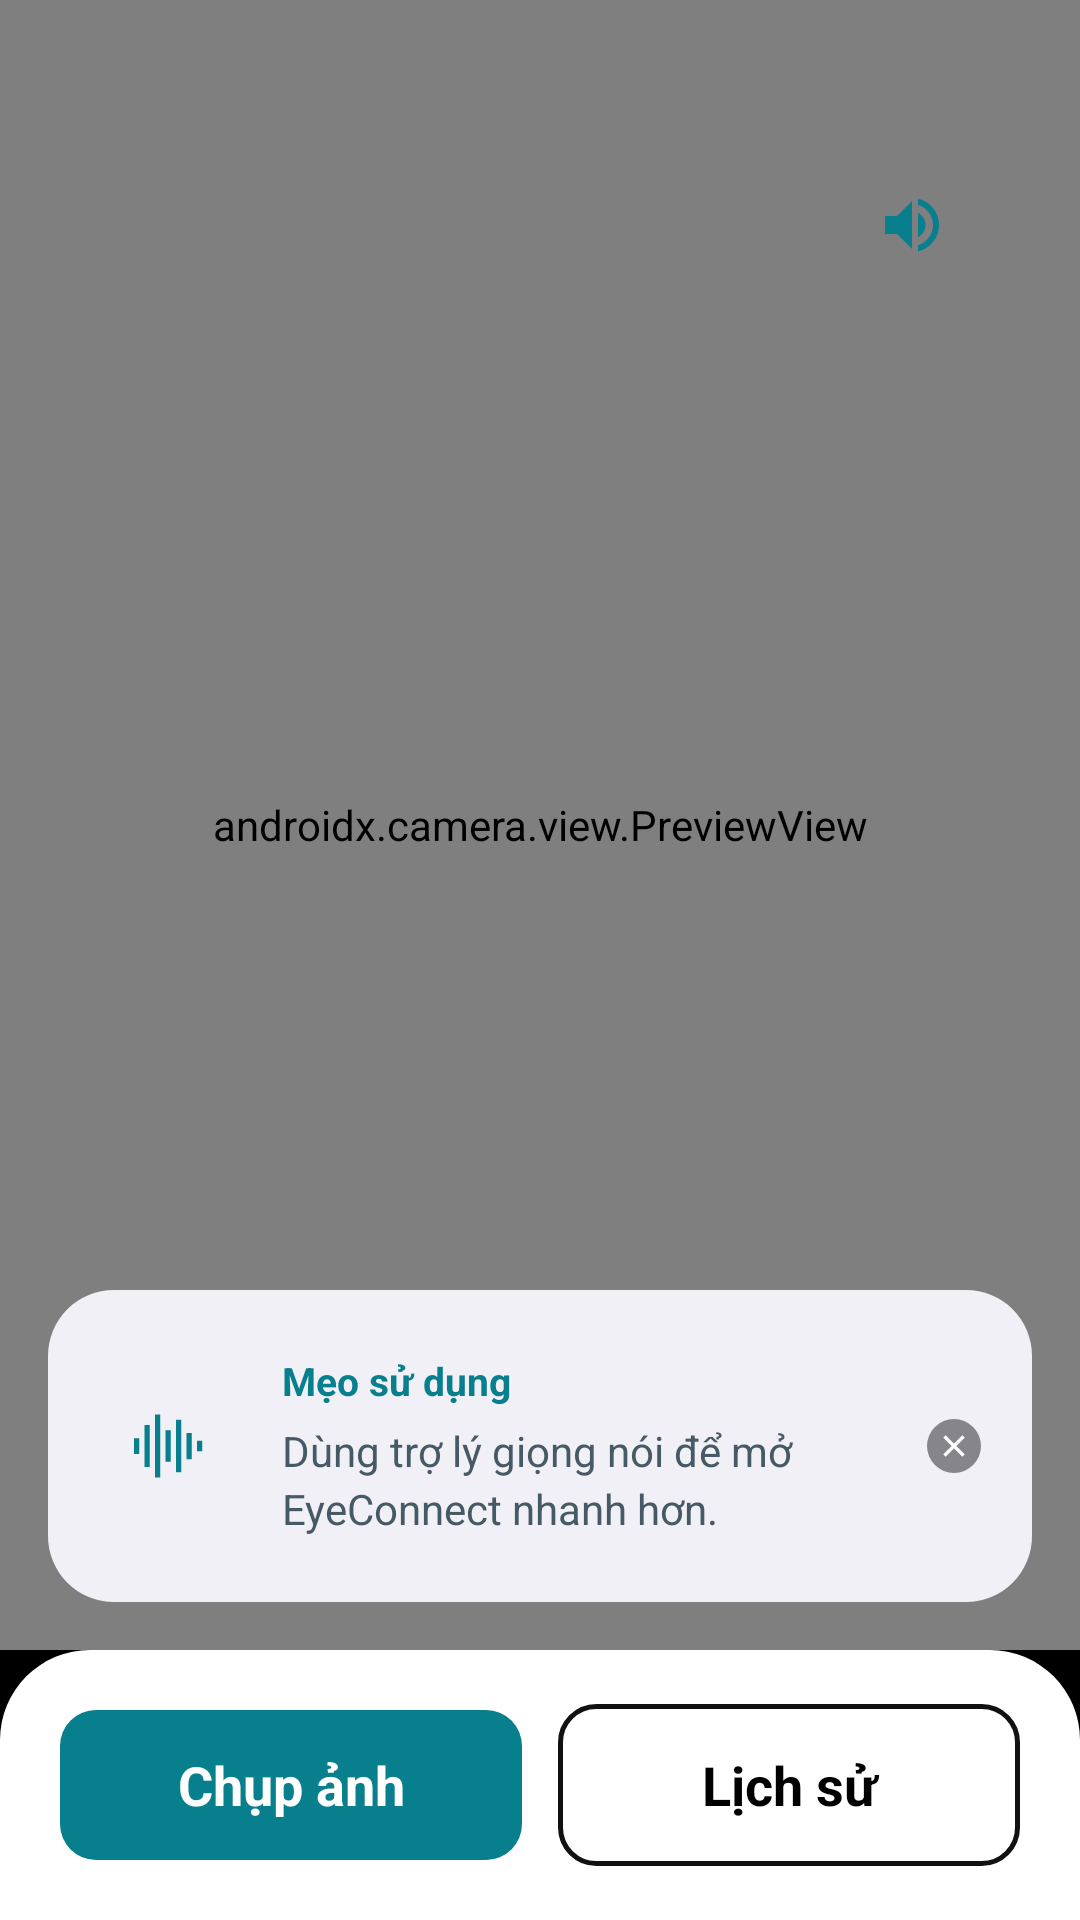

Screen size 1080w x 1920h. Icon name, then its box in pixels as (x1, y1, x2, y2):
Âm thanh: (885, 199, 939, 251)
Đóng gợi ý: (927, 1419, 981, 1473)
